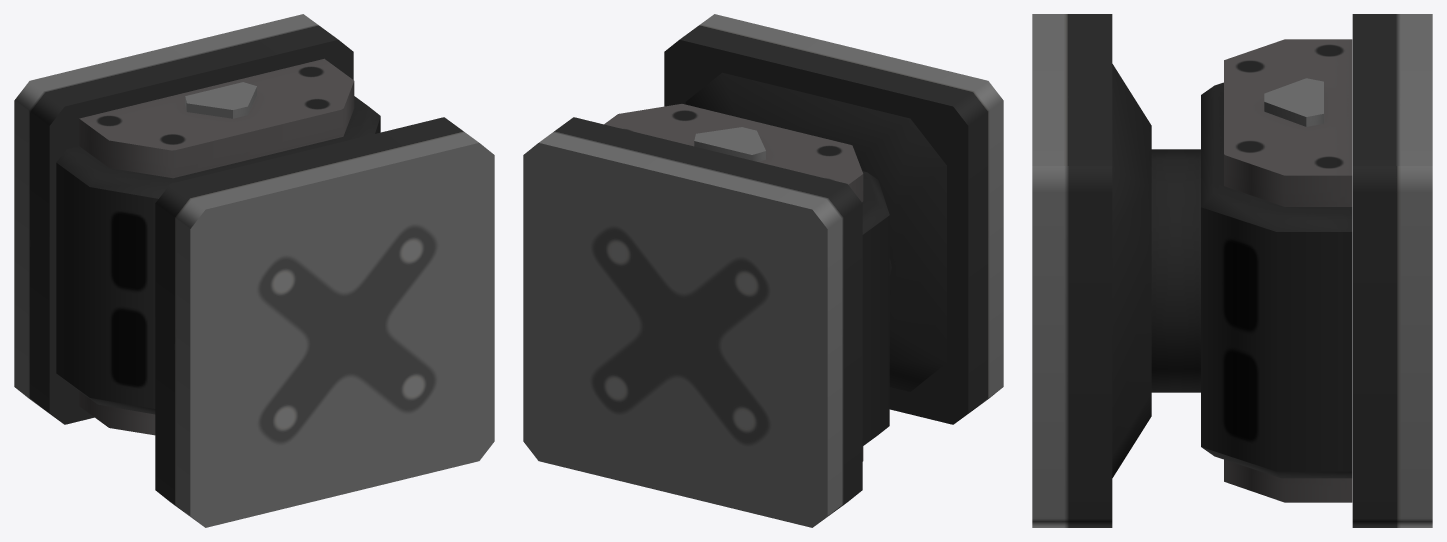
The model's file is obj_interactive_piston_02_off.fbx.
The picture shows the model from 3 angles, left to right: view 1: azimuth 30°, elevation 25°; view 2: azimuth 150°, elevation 25°; view 3: azimuth 270°, elevation 25°; orthographic projection. The views are drawn at different scales.
Visible parts, largest first — view 1: obj_interactive_piston_02_off; view 2: obj_interactive_piston_02_off; view 3: obj_interactive_piston_02_off.
Part boxes in pixels (x1,y1,x2,y2): obj_interactive_piston_02_off: (14,14,494,527); obj_interactive_piston_02_off: (523,14,1003,527); obj_interactive_piston_02_off: (1032,14,1432,527).
Size of the model in its own units: 1 by 1 by 1.
